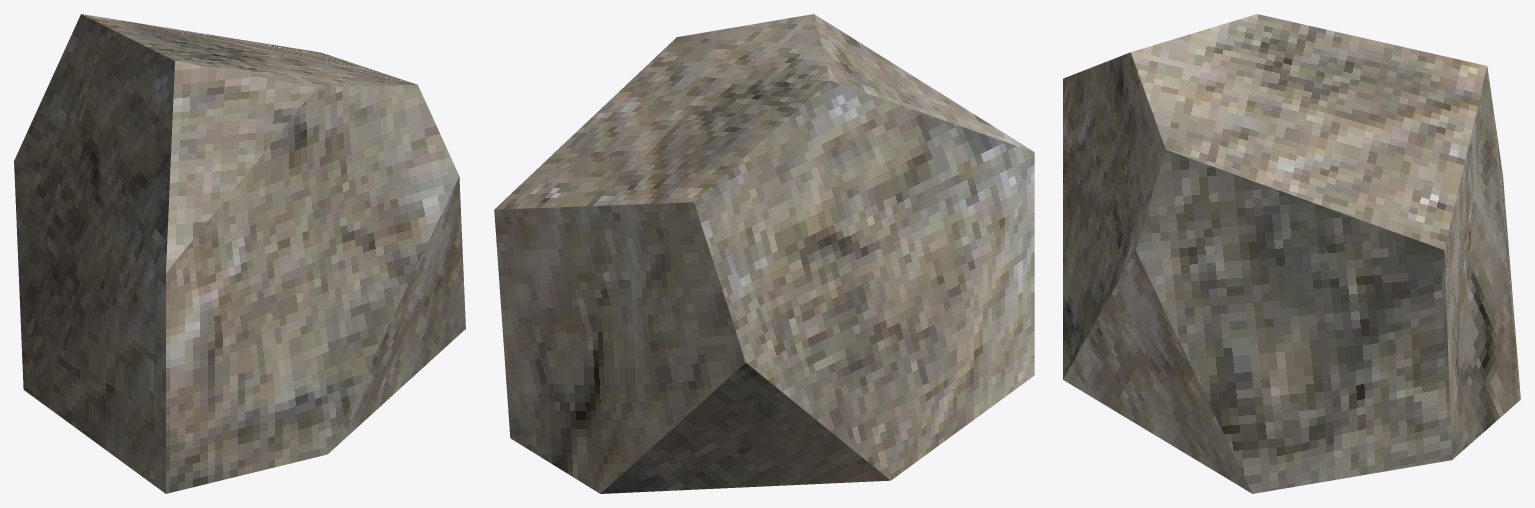
Rendered from simple-rock-ps1-low-poly.glb.
3 views of the same model, side by side, from view 1: azimuth 30°, elevation 25°; view 2: azimuth 150°, elevation 25°; view 3: azimuth 270°, elevation 25° (orthographic).
Visible parts, largest first — view 1: Cube; view 2: Cube; view 3: Cube.
Boxes of the visible parts, x1,y1,x2,y2 form: Cube: (14,14,465,493); Cube: (494,14,1034,493); Cube: (1063,14,1520,493).
Size of the model in its own units: 2 by 1.63 by 2.
Materials: 1 (1 with a texture image).
